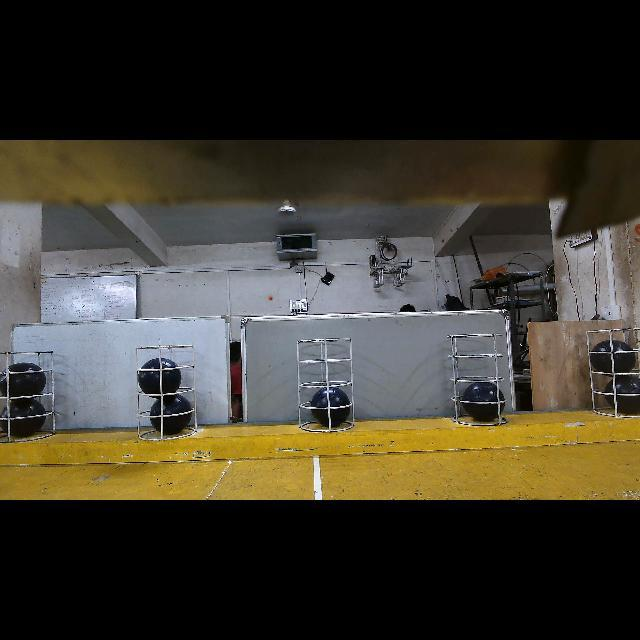P: (139, 358, 182, 399), (0, 399, 46, 437), (0, 363, 46, 401), (150, 395, 192, 435), (591, 340, 636, 377), (311, 387, 351, 428), (462, 383, 505, 421), (605, 377, 640, 414)
S: (127, 339, 200, 447), (294, 335, 354, 439), (0, 343, 60, 444), (446, 333, 504, 423), (592, 326, 638, 414)
